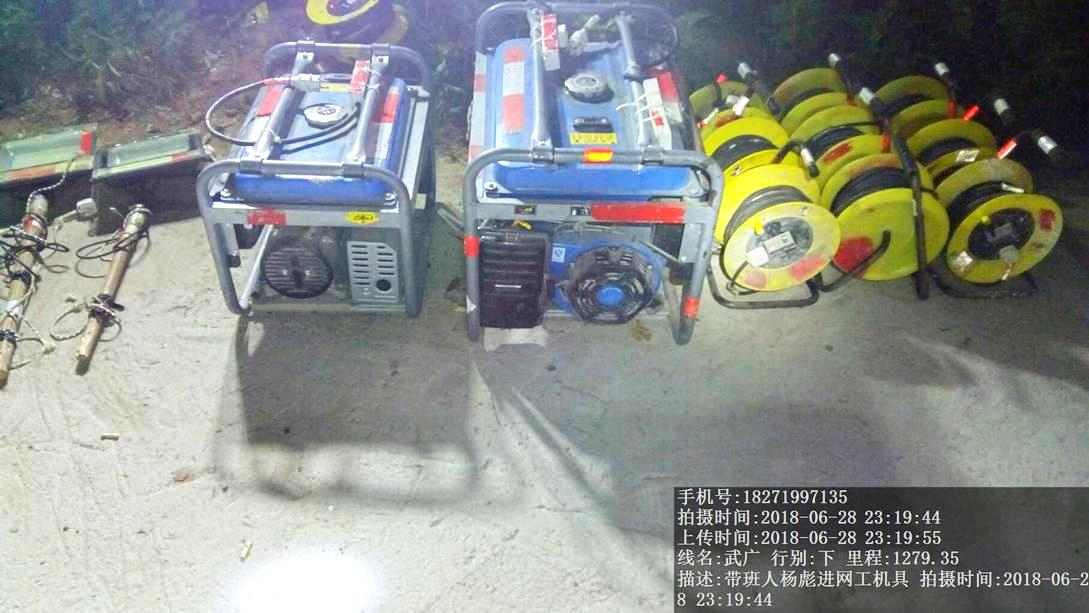DJ: (463, 12, 718, 345), (205, 56, 446, 327)
DX: (941, 155, 1063, 299), (723, 165, 832, 309), (831, 162, 940, 304)
